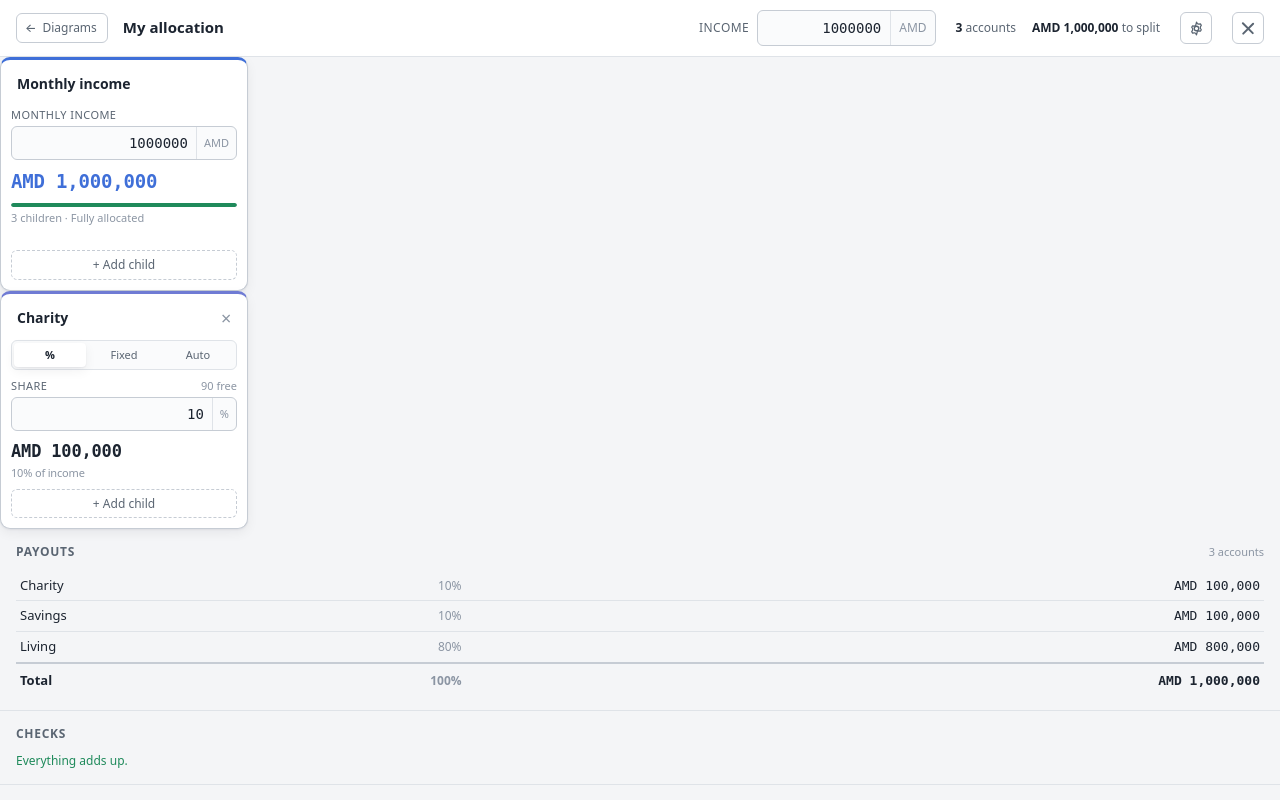
Test case: editing a node › recalculates the auto sibling when a percentage changes
Replace the text in the field named "Percentage share" with "30". click: [112, 414]
box: [12,398,212,430]
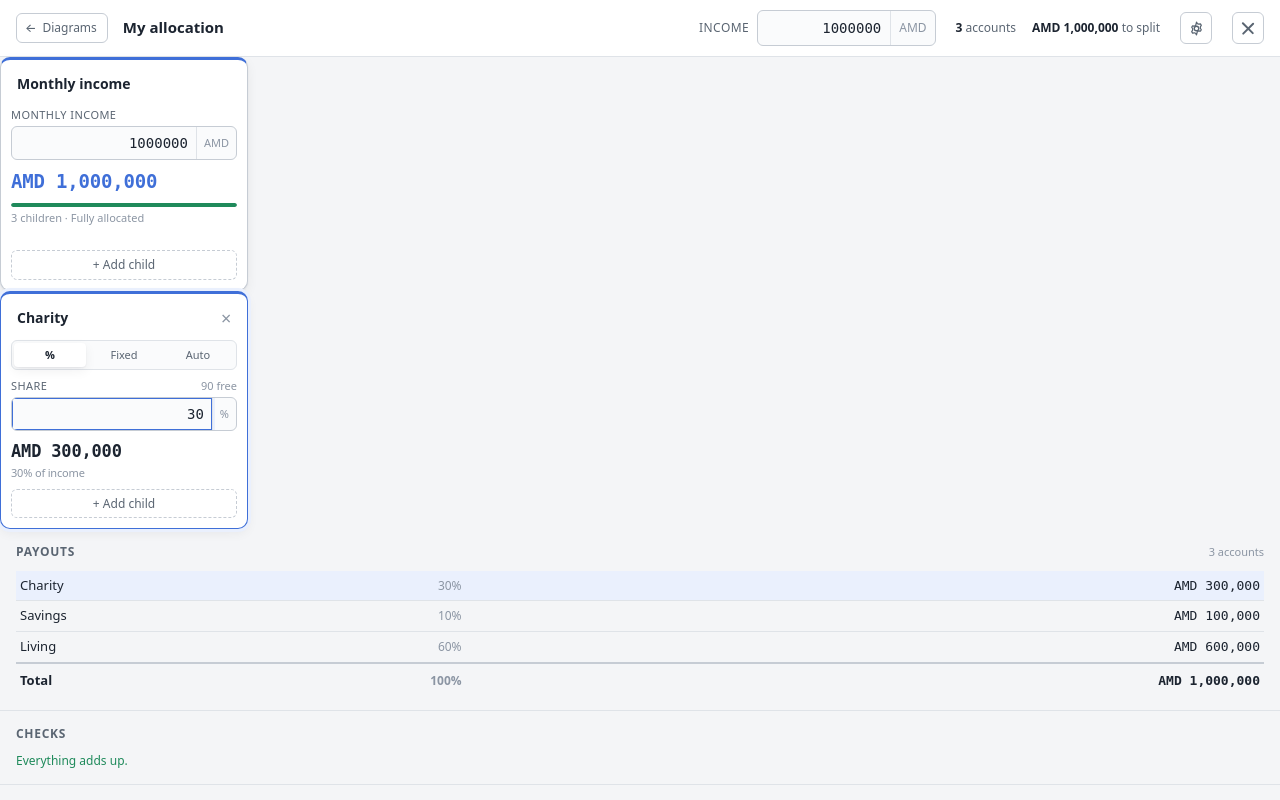
expect the text "AMD 300,000" is shown: met, box [466,571,1264,601]
expect the text "AMD 600,000" is shown: met, box [466,632,1264,663]
